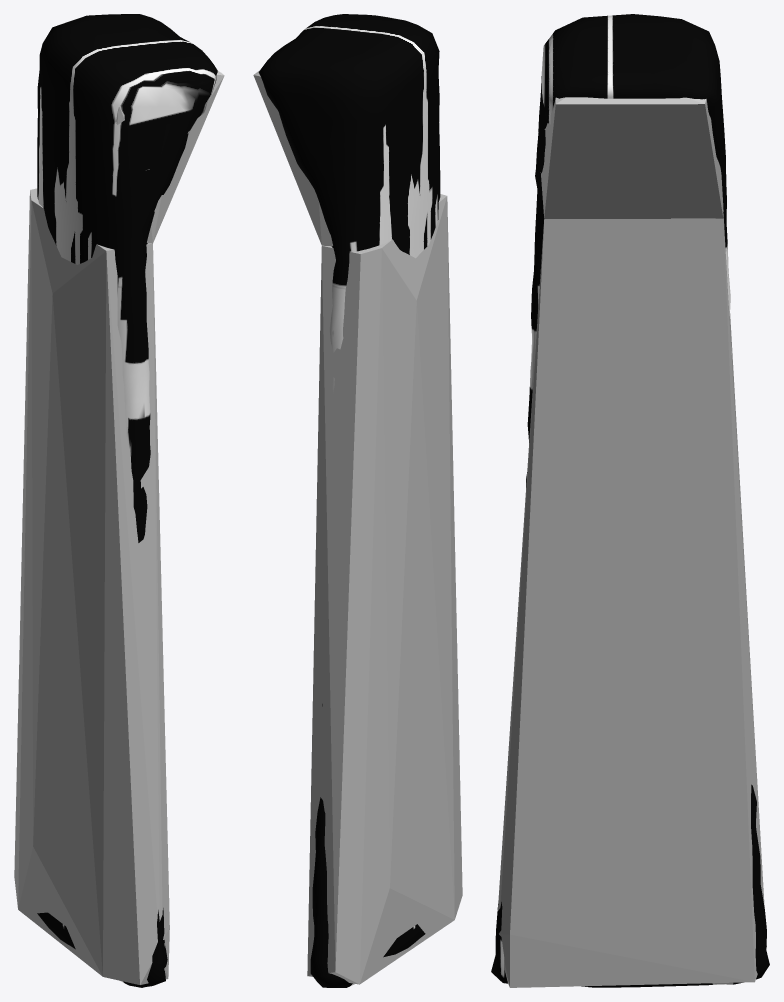
Rendered from SM_Env_Water_Plane_Waterfall_02.fbx.
The picture shows the model from 3 angles, left to right: view 1: azimuth 30°, elevation 25°; view 2: azimuth 150°, elevation 25°; view 3: azimuth 270°, elevation 25°; orthographic projection. The views are drawn at different scales.
Parts seen in each view (by area): view 1: SM_Env_Water_Plane_Waterfall_02_ConvexHulls, SM_Env_Water_Plane_Waterfall_02; view 2: SM_Env_Water_Plane_Waterfall_02_ConvexHulls, SM_Env_Water_Plane_Waterfall_02; view 3: SM_Env_Water_Plane_Waterfall_02_ConvexHulls, SM_Env_Water_Plane_Waterfall_02.
Part boxes in pixels (x1,y1,x2,y2): SM_Env_Water_Plane_Waterfall_02_ConvexHulls: (14,70,224,984); SM_Env_Water_Plane_Waterfall_02: (37,14,217,987); SM_Env_Water_Plane_Waterfall_02_ConvexHulls: (253,70,462,984); SM_Env_Water_Plane_Waterfall_02: (258,14,440,987); SM_Env_Water_Plane_Waterfall_02_ConvexHulls: (497,97,766,987); SM_Env_Water_Plane_Waterfall_02: (491,14,769,987).
Size of the model in its own units: 496 by 850 by 3243.
2 materials, 1 textured.
